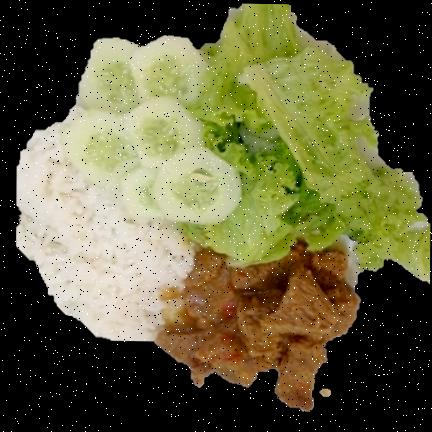cucumber: (65, 37, 242, 225)
meat: (156, 242, 359, 411)
rice: (17, 109, 194, 341)
salad: (183, 4, 430, 284)
